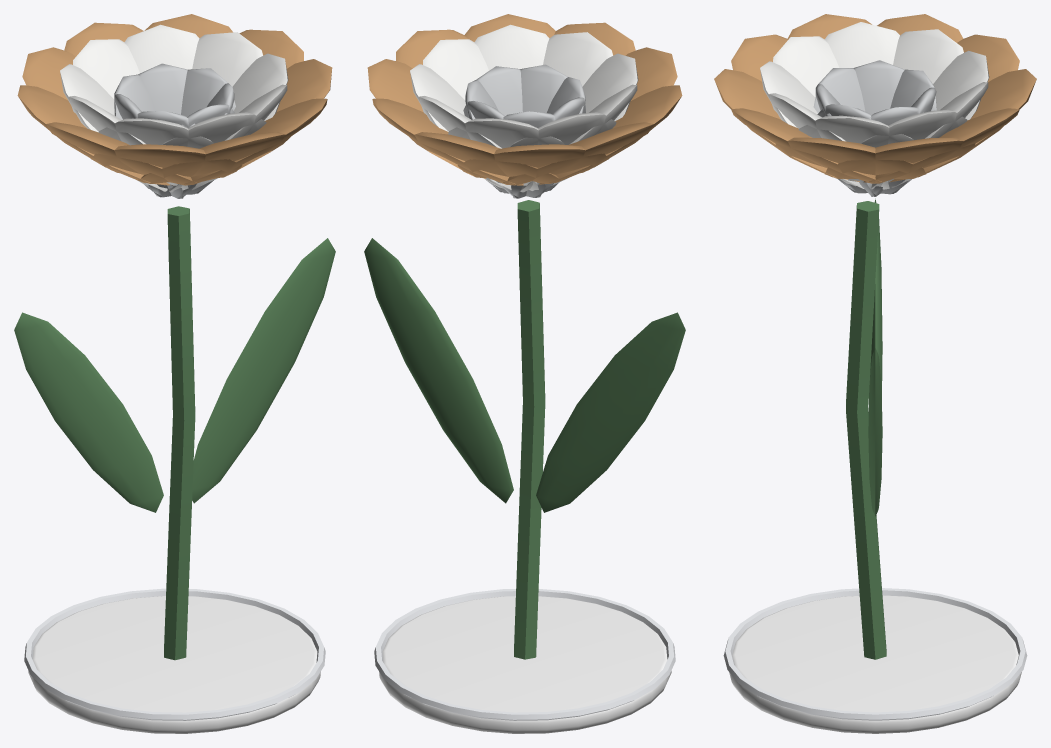
Rendered from flower_giant_prop.glb.
3 views of the same model, side by side, from view 1: azimuth 30°, elevation 25°; view 2: azimuth 150°, elevation 25°; view 3: azimuth 270°, elevation 25° (orthographic).
Visible parts, largest first — view 1: flower_giant_prop; view 2: flower_giant_prop; view 3: flower_giant_prop.
Part boxes in pixels (left/top/right/bottom): flower_giant_prop: left=14, top=14, right=335, bottom=733; flower_giant_prop: left=364, top=14, right=685, bottom=733; flower_giant_prop: left=714, top=14, right=1036, bottom=733.
Size of the model in its own units: 1.01 by 1.81 by 0.8751.
